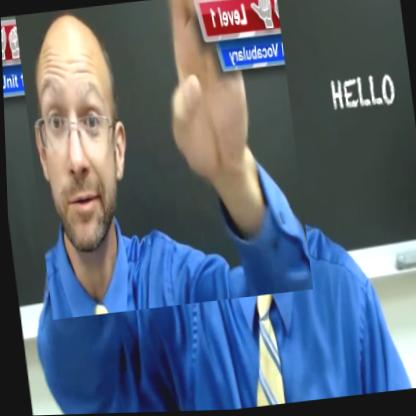Hello: (14, 0, 311, 320)
